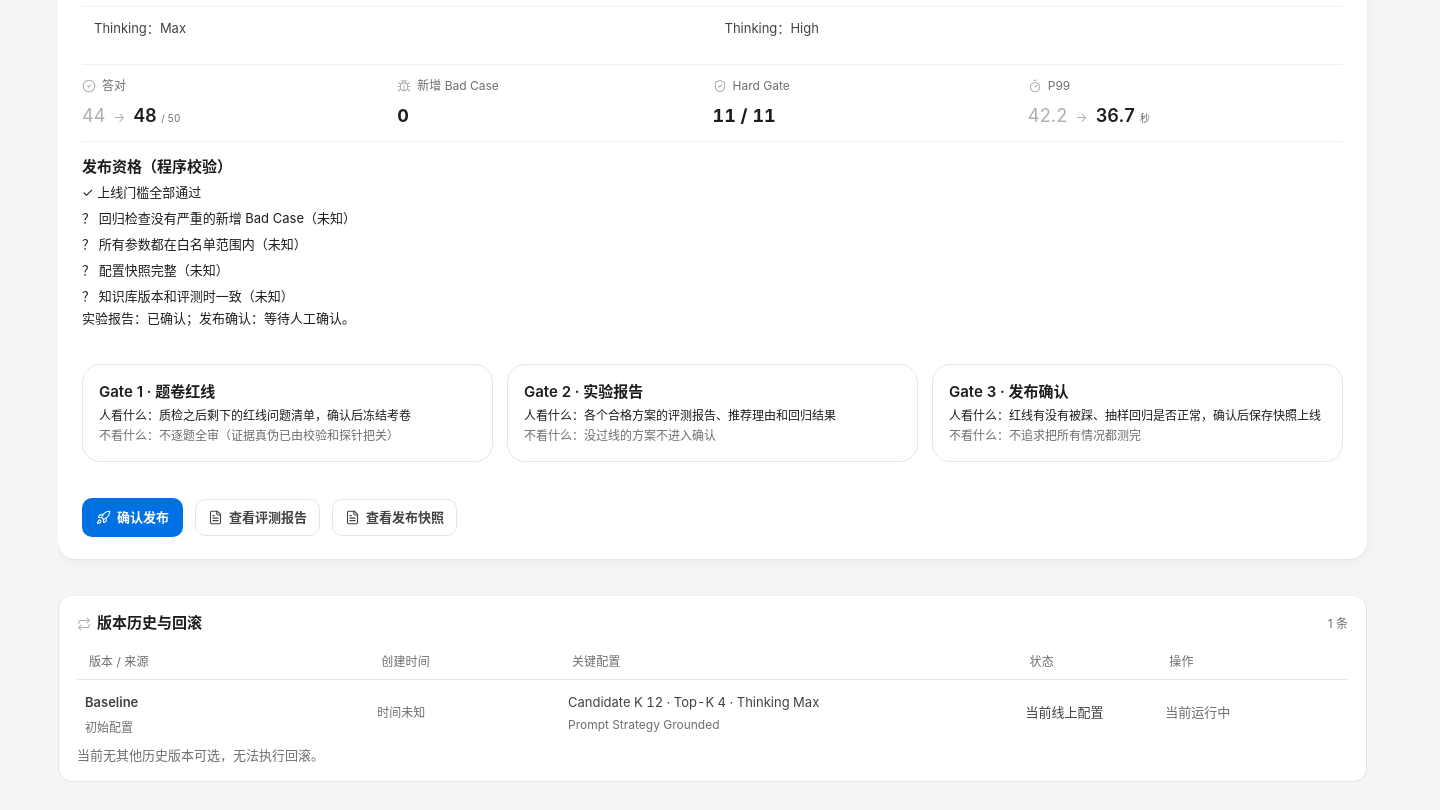
Test case: opens the existing release confirmation and cancelling makes no write request
This screenshot has width=1440, height=810.
Later steps or results of the test are not shown.
Expected: the element named "待发布 Candidate" shows "44", x1=82 y1=105 x2=105 y2=126
Expected: the element named "待发布 Candidate" shows "48", x1=133 y1=105 x2=157 y2=126
Click the button "确认发布".
click(132, 518)  # box x1=82 y1=498 x2=183 y2=537
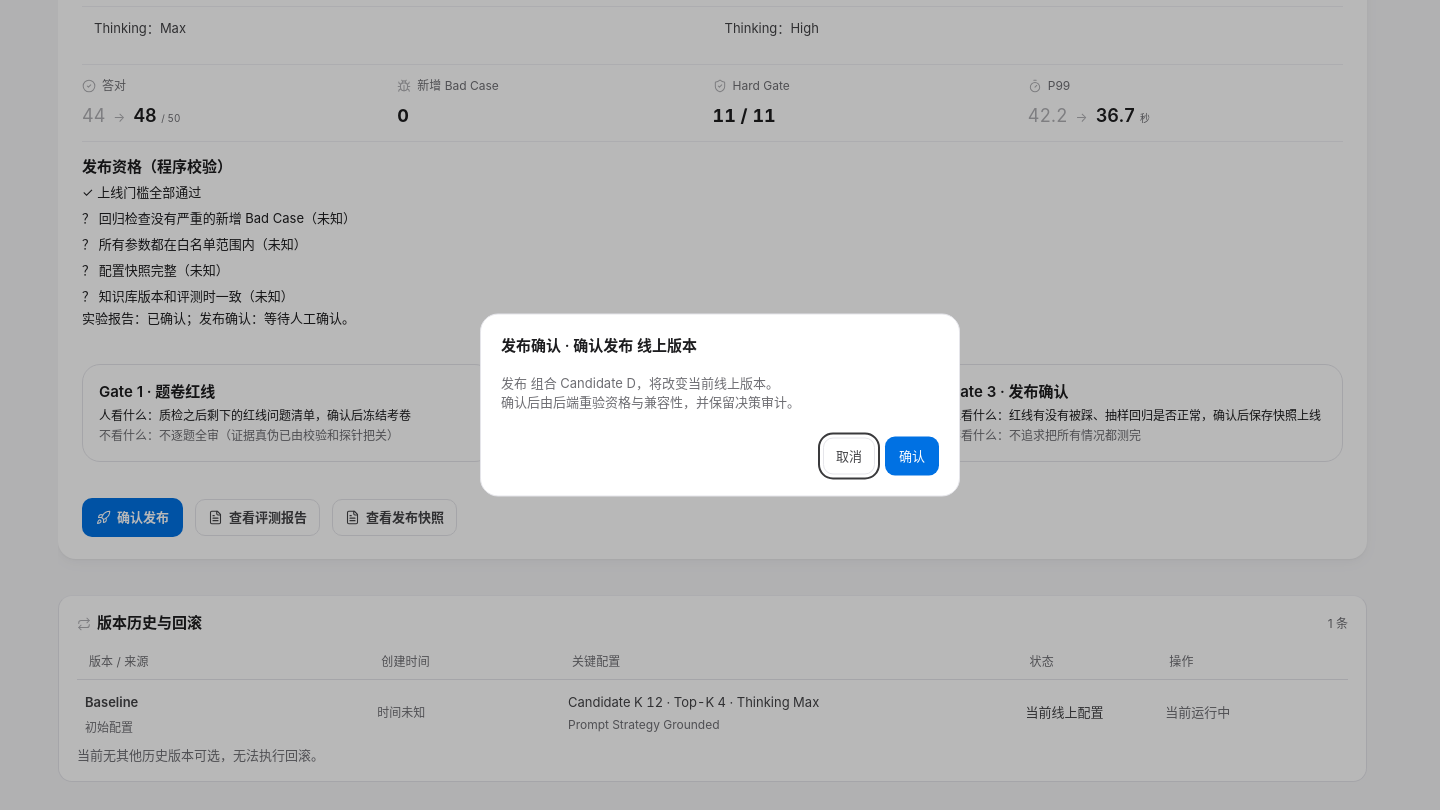
Expected: the dialog with class "confirm-dialog" shows "发布确认", x1=501 y1=336 x2=697 y2=354
